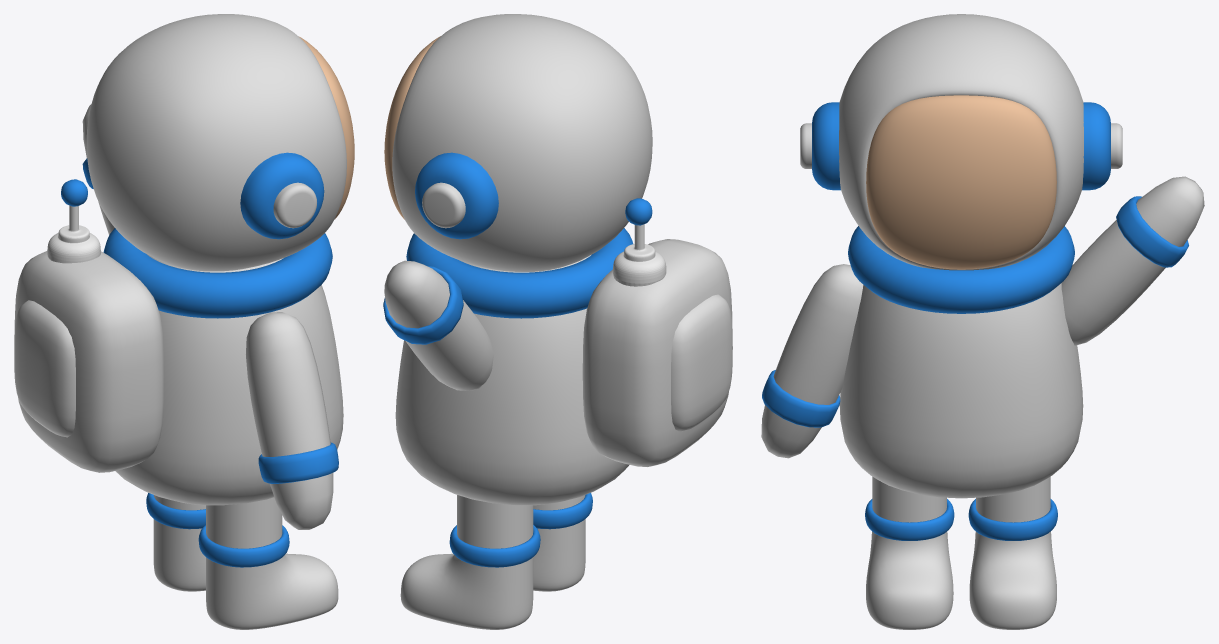
File: astronaut.gltf
3 views of the same model, side by side, from view 1: azimuth 30°, elevation 25°; view 2: azimuth 150°, elevation 25°; view 3: azimuth 270°, elevation 25° (orthographic).
Parts seen in each view (by area): view 1: Head, Body, Bag, Legs, Hands.001, Torus, Cube.008, Cylinder.001, Cube.003, Cube.012, Cylinder, Glass (+2 smaller); view 2: Head, Body, Bag, Legs, Torus, Hands, Cube.008, Cylinder.001, Cube.003, Cylinder, Cube.005, Glass (+2 smaller); view 3: Body, Glass, Head, Legs, Torus, Hands, Hands.001, Cylinder.001, Cube.003, Cube.005, Cube.012, Cylinder.002.
Part boxes in pixels (x1,y1,x2,y2): Head: (86,14,346,271); Body: (115,254,343,505); Bag: (14,251,164,472); Legs: (153,495,338,629); Hands.001: (246,312,333,529); Torus: (103,228,332,318); Cube.008: (14,300,75,437); Cylinder.001: (240,152,324,239); Cube.003: (146,493,289,567); Cube.012: (258,442,338,483); Cylinder: (47,205,100,263); Glass: (299,36,354,218); Head: (392,14,652,271); Body: (395,255,629,505); Bag: (582,239,732,466); Legs: (400,495,585,629); Torus: (406,228,633,318); Hands: (384,260,493,390); Cube.008: (671,294,732,431); Cylinder.001: (415,152,498,239); Cube.003: (449,493,592,567); Cylinder: (613,224,666,286); Cube.005: (383,266,463,344); Glass: (384,36,440,219); Body: (839,283,1083,498); Glass: (866,95,1056,269); Head: (839,14,1083,270); Legs: (866,476,1056,629); Torus: (848,226,1074,313); Hands: (1061,176,1204,345); Hands.001: (761,264,863,458); Cylinder.001: (812,102,1110,190); Cube.003: (865,499,1057,540); Cube.005: (1116,196,1188,267); Cube.012: (762,370,840,427); Cylinder.002: (800,123,1122,168).
Bounding box in the file's own units: 1.97 × 3.56 × 2.53.
